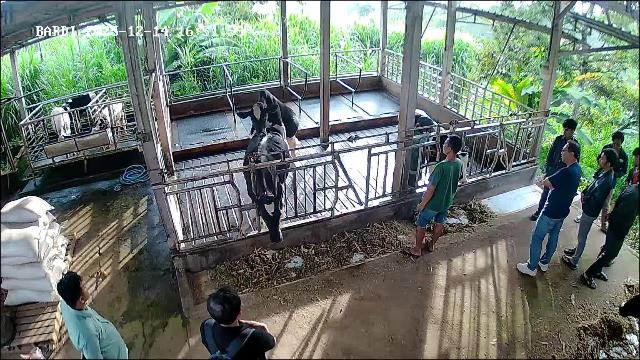mounting: (235, 88, 301, 186)
